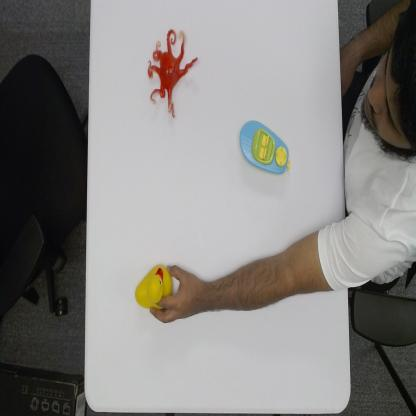Arm: (211, 217, 369, 316)
Boat: (238, 118, 292, 177)
Duck: (134, 262, 173, 309)
Hand: (148, 264, 203, 326)
Octopus: (146, 26, 199, 120)
